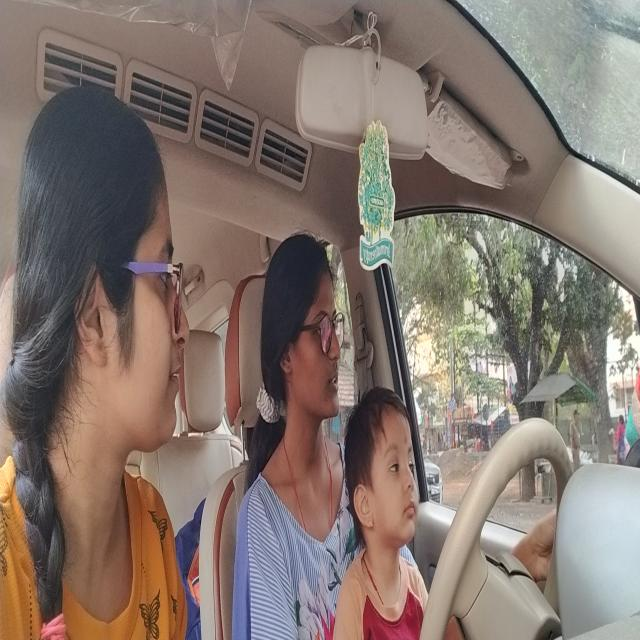child: (340, 379, 426, 560)
person: (8, 76, 190, 483), (259, 220, 342, 441)
